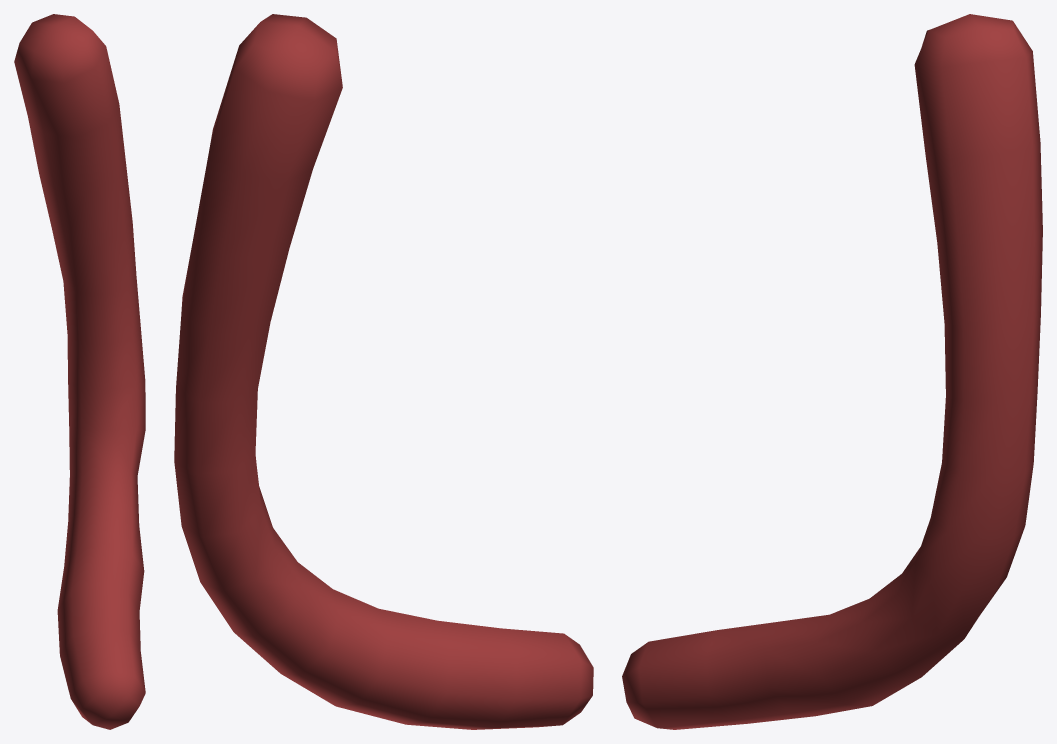
File: tendon-sheath-of-flexor-digitorum-longus-r.glb
3 views of the same model, side by side, from view 1: azimuth 30°, elevation 25°; view 2: azimuth 150°, elevation 25°; view 3: azimuth 270°, elevation 25° (orthographic). The views are drawn at different scales.
Visible parts, largest first — view 1: Tendon sheath of flexor digitorum longus.r; view 2: Tendon sheath of flexor digitorum longus.r; view 3: Tendon sheath of flexor digitorum longus.r.
Part boxes in pixels (bbox=[...]): Tendon sheath of flexor digitorum longus.r: bbox=[14, 14, 145, 729]; Tendon sheath of flexor digitorum longus.r: bbox=[174, 14, 593, 729]; Tendon sheath of flexor digitorum longus.r: bbox=[622, 14, 1042, 729].
Size of the model in its own units: 0.0211 by 0.0665 by 0.0336.
